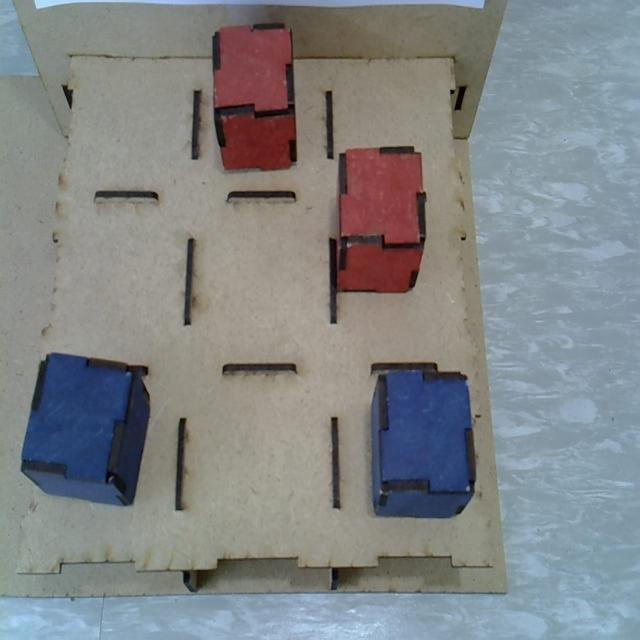blue_box: (21, 351, 150, 508), (373, 364, 477, 519)
red_box: (336, 144, 426, 292), (212, 20, 299, 172)
